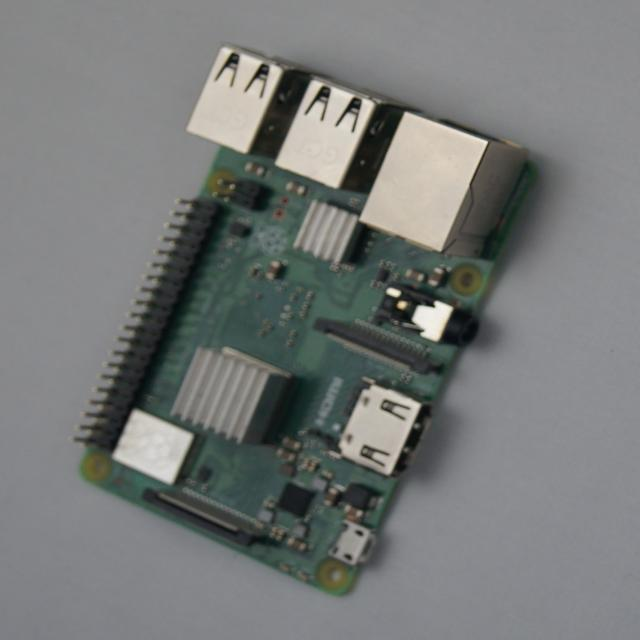Raspberry Pi 3 B-: (76, 48, 534, 595)
